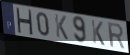0: (35, 12, 51, 38)
9: (72, 15, 88, 45)
H: (15, 7, 34, 37)
K: (90, 19, 106, 47), (54, 13, 69, 42)
R: (106, 21, 126, 51)
